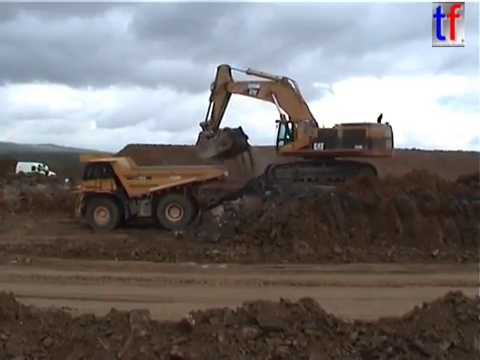excavator: (193, 61, 397, 192)
truck: (63, 151, 228, 233)
worker: (41, 162, 50, 180), (35, 162, 42, 179)
